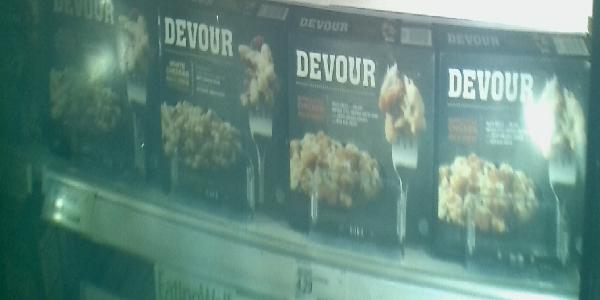pizza1: (286, 7, 429, 249), (436, 34, 589, 257), (155, 6, 283, 219), (42, 1, 156, 186)
